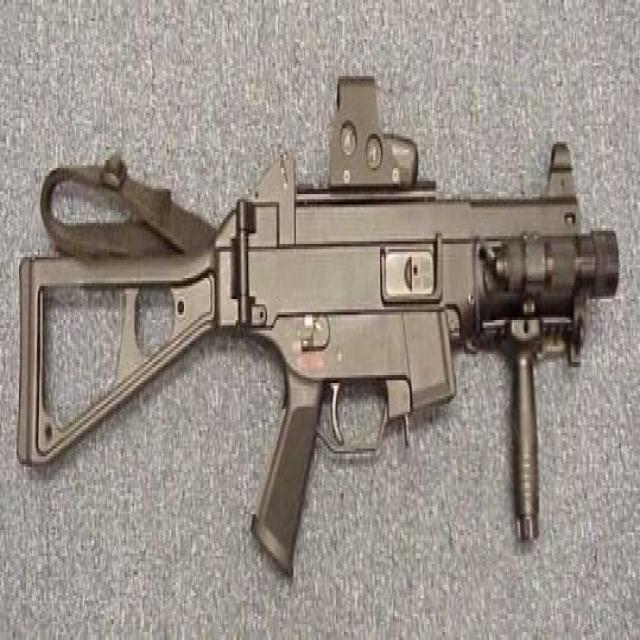Gun: (15, 57, 620, 603)
